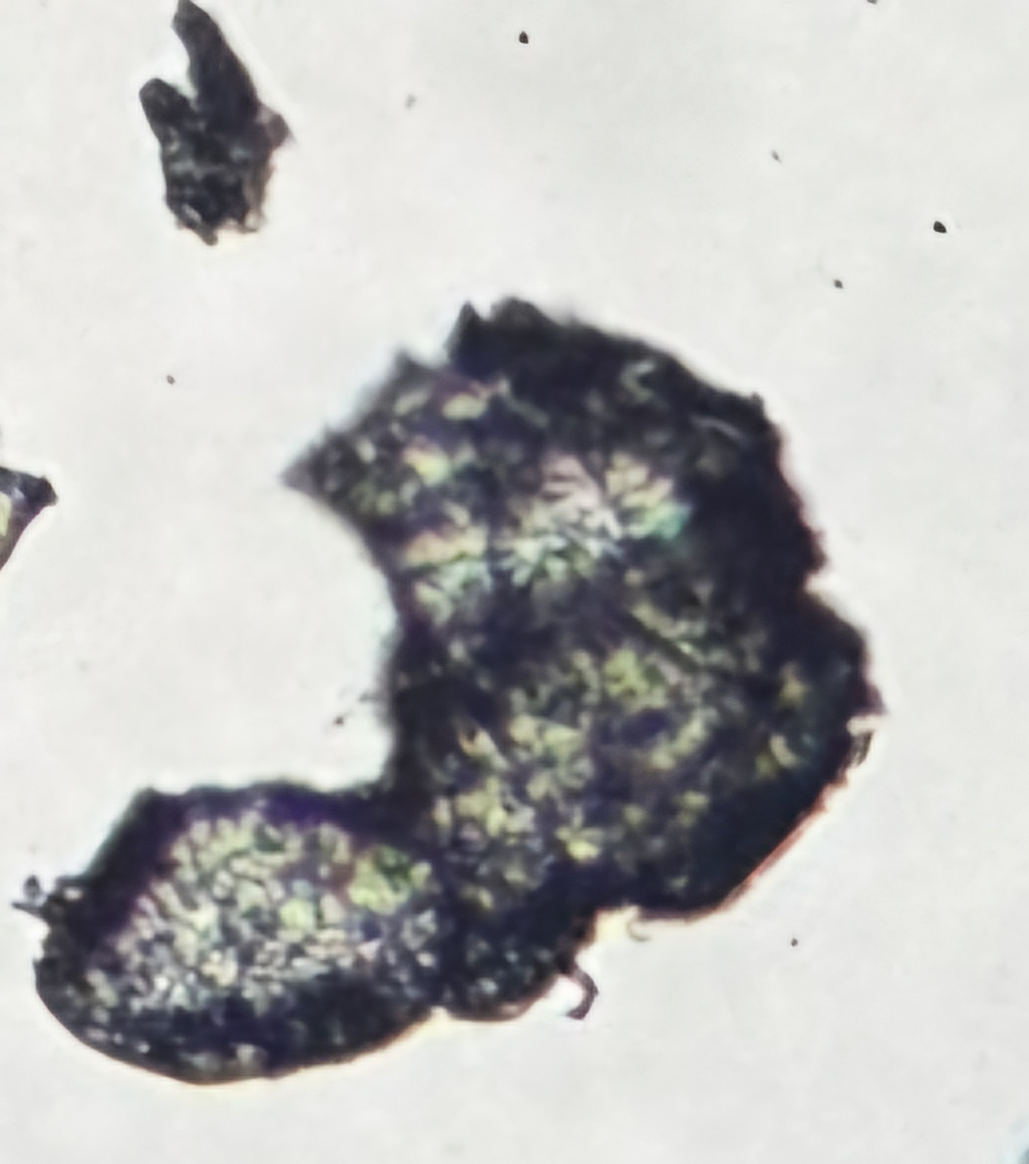microplastic: (12, 292, 887, 1086), (139, 1, 290, 246), (1, 467, 58, 569)
